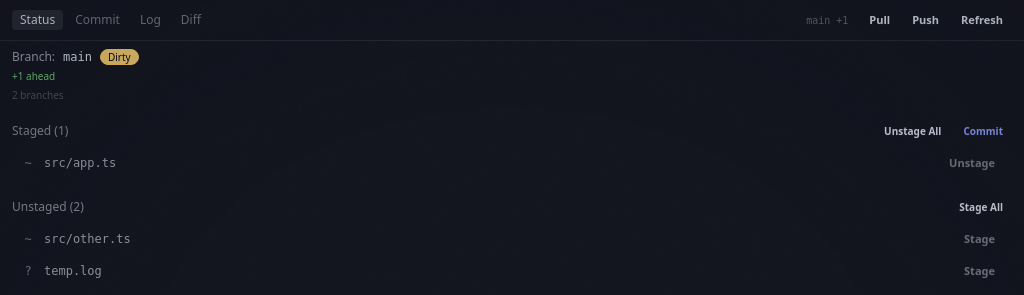
GitTab › shows empty log message
The image size is (1024, 295).
Click the button with test id "git-section-log": (150, 20) [132, 10, 169, 30]
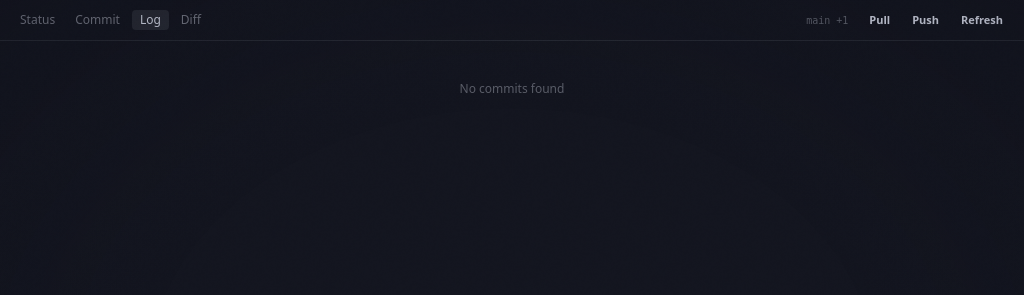
Expected: the text "No commits found" is shown, [460, 81, 564, 97]
